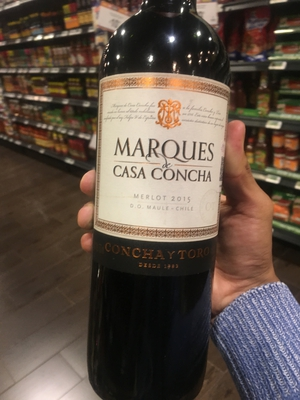marques de casa concha merlot: (80, 7, 245, 400)
